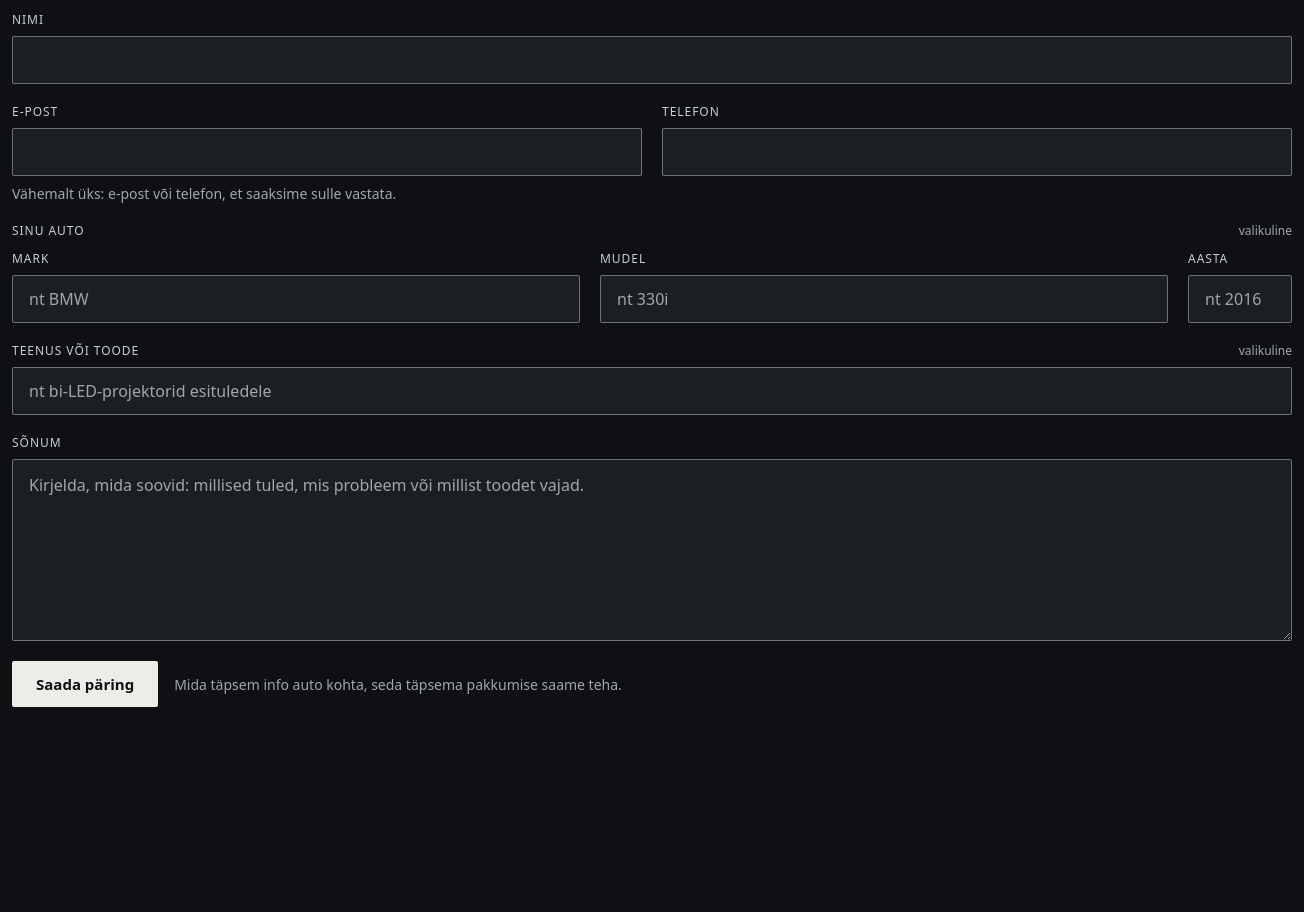
Test: InquiryForm › results from the action › shows the not-configured banner with phone and email, not success
The width and height of the screenshot is (1304, 912).
Type "Mari Maasikas" into the field labelled "Nimi" at (652, 60), box [12,36,1292,84]
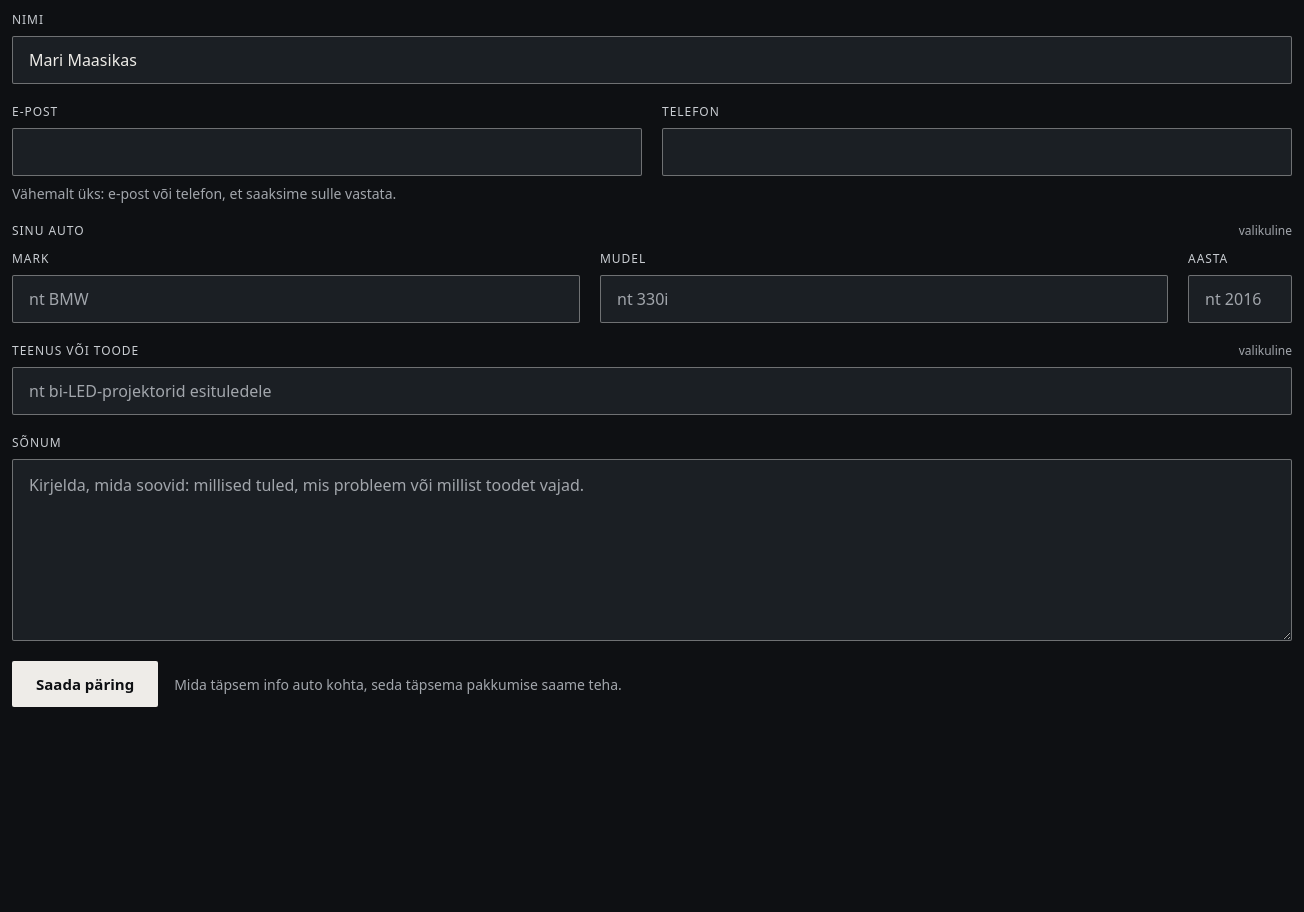
Type "mari@example.com" into the field labelled "E-post" at (327, 152), box [12,128,642,176]
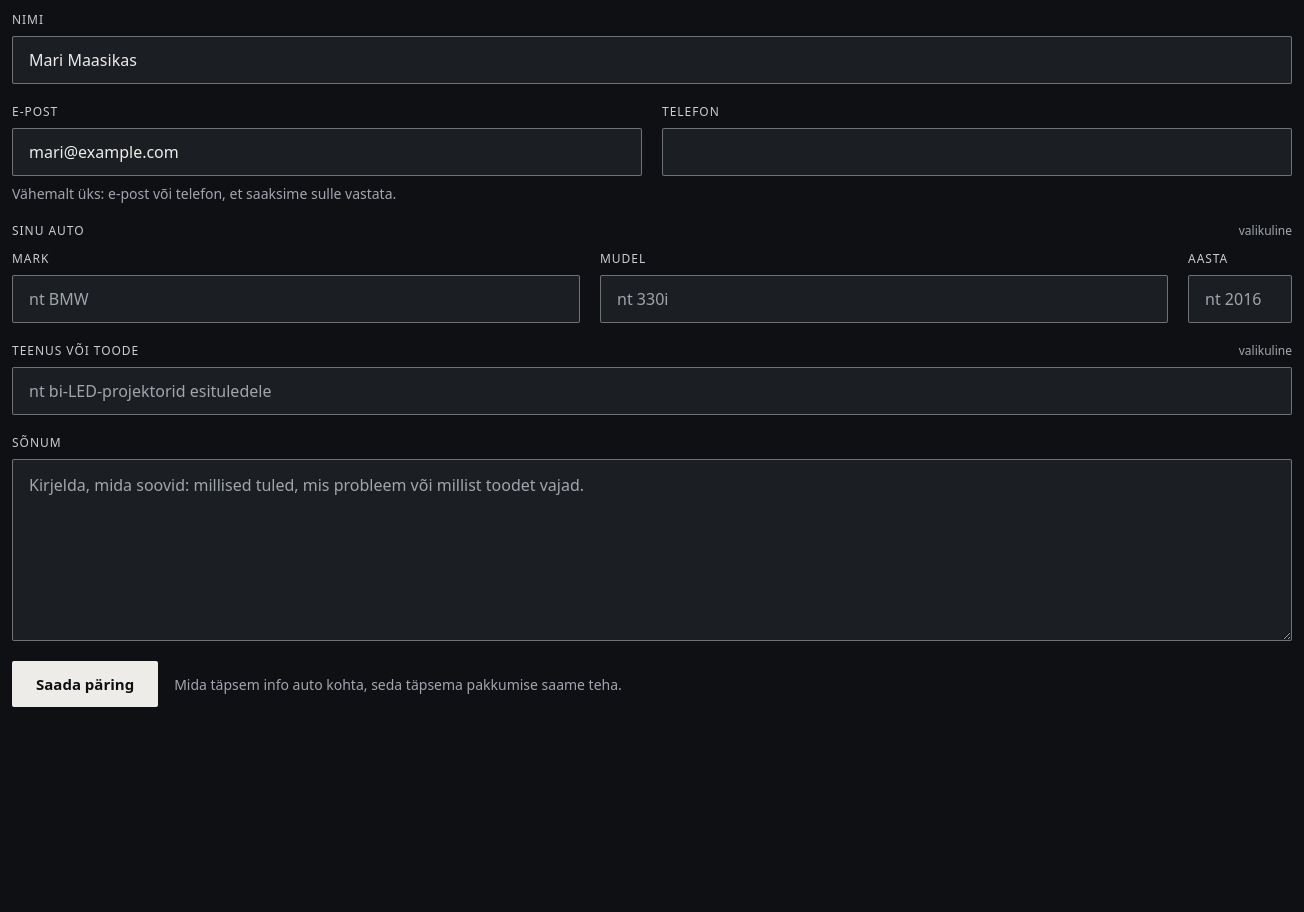
Replace the text in the text box labelled "Sõnum" with "Tahaksin hinnapakkumist." at (652, 550), box [12,459,1292,641]
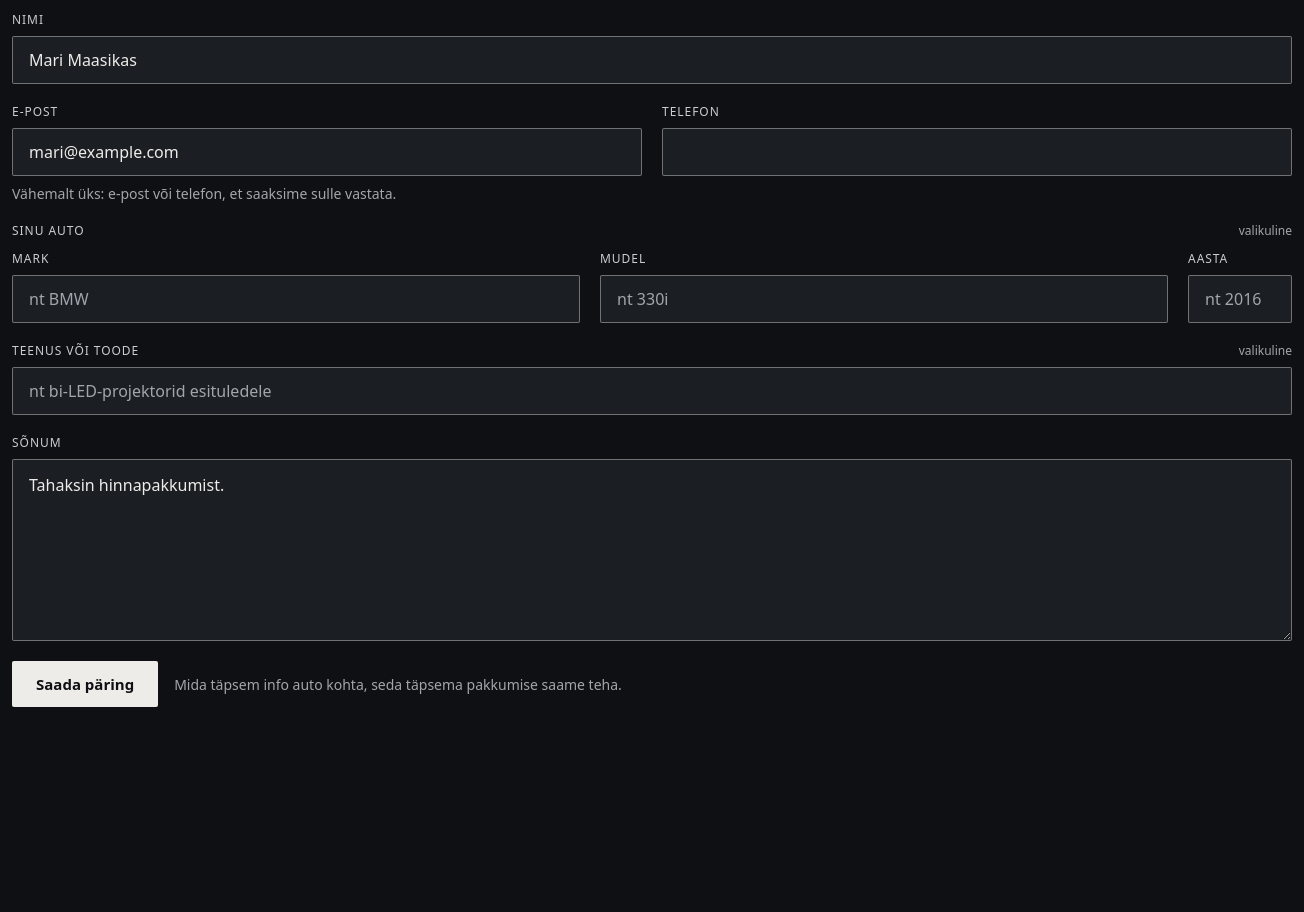
Submit the form
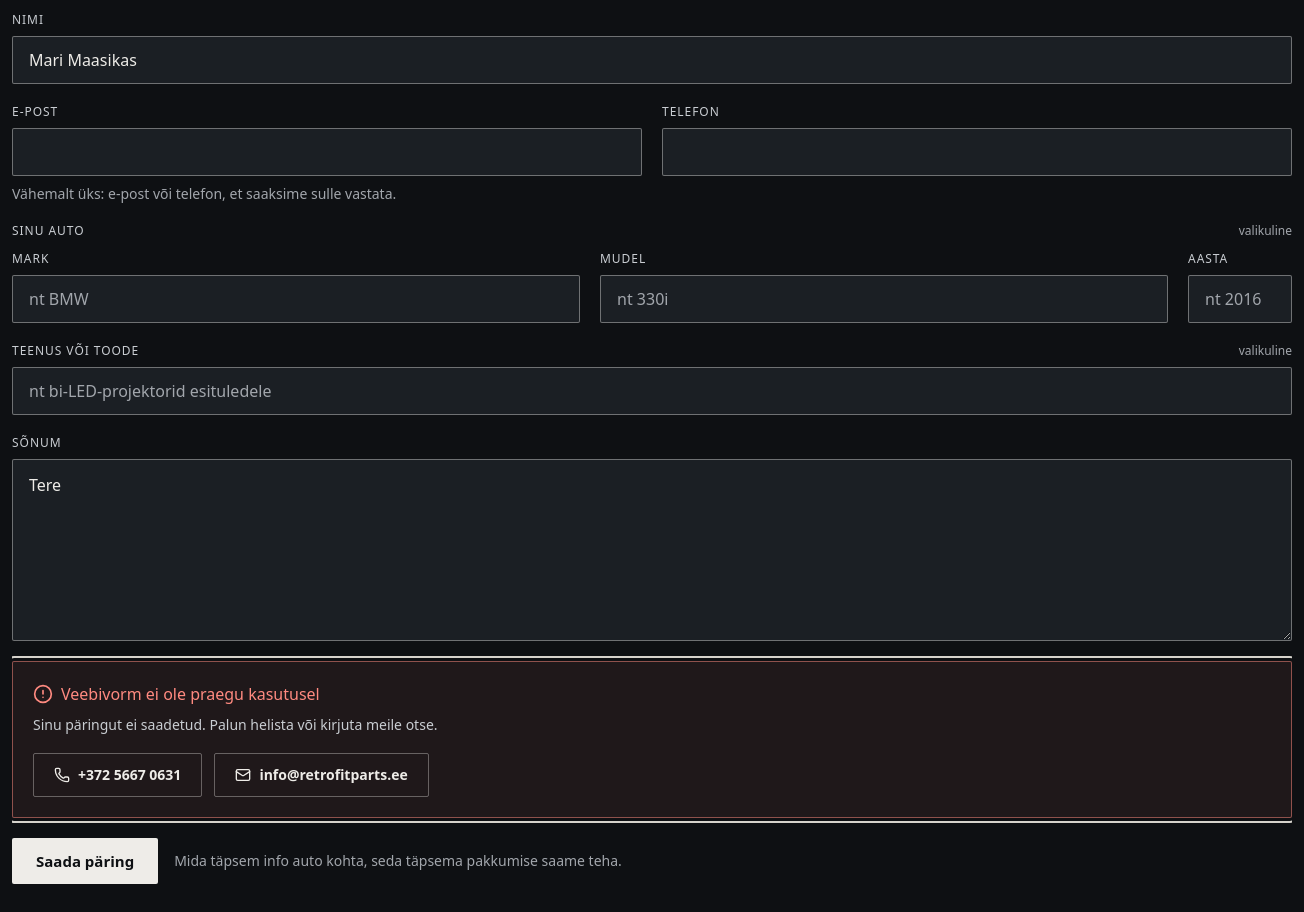
Expected: the message shows "Veebivorm ei ole praegu kasutusel", [61,683,320,705]
Expected: the link "+372 5667 0631" is shown, [33,753,202,797]
Expected: the link "info@retrofitparts.ee" is shown, [214,753,429,797]
